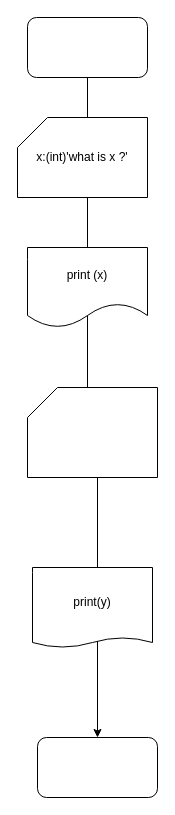
Image size: 175x815. Some labels were removed from this diagram. The centre of each missing label's shape, as x and y in pixels:
start: pixel 87 47
y:(int)"what is y?": pixel 92 432
